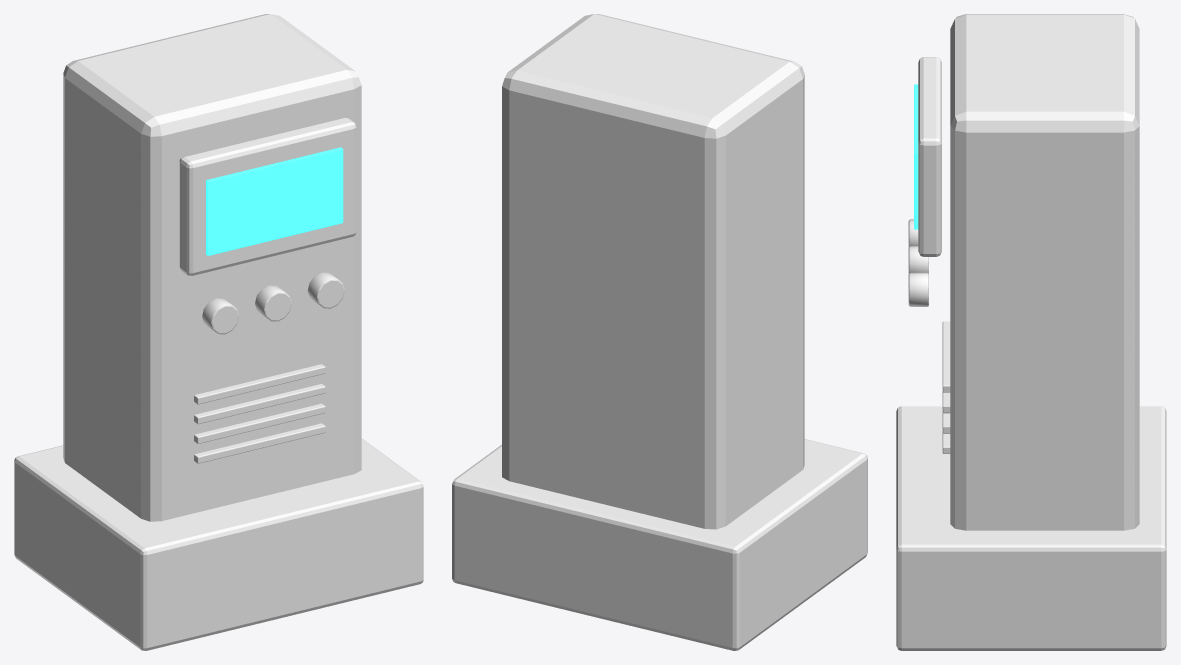
File: SM_RelayConsole.glb
3 views of the same model, side by side, from view 1: azimuth 30°, elevation 25°; view 2: azimuth 150°, elevation 25°; view 3: azimuth 270°, elevation 25° (orthographic). The views are drawn at different scales.
Visible parts, largest first — view 1: SM_RelayConsole; view 2: SM_RelayConsole; view 3: SM_RelayConsole.
Boxes of the visible parts, x1,y1,x2,y2 form: SM_RelayConsole: (14, 14, 423, 650); SM_RelayConsole: (452, 14, 867, 650); SM_RelayConsole: (896, 14, 1166, 650).
Size of the model in its own units: 0.75 by 1.27 by 0.6.
